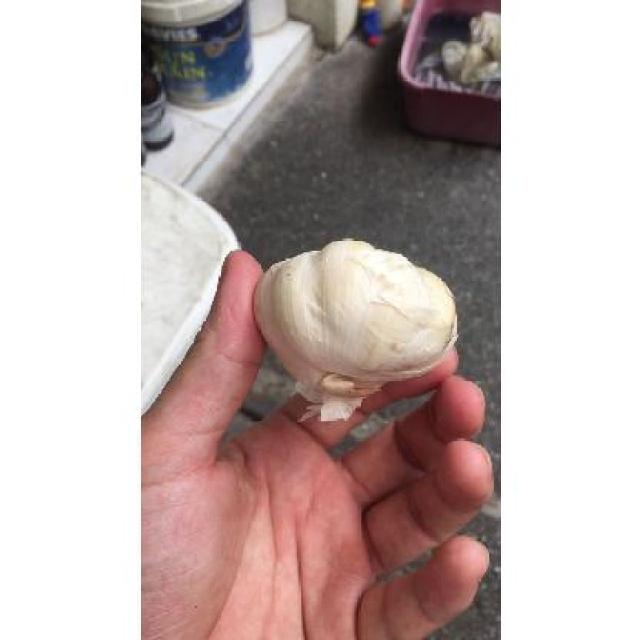Garlic: (242, 224, 473, 427)
